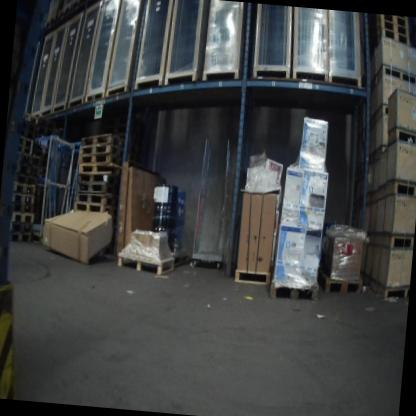pallet: (116, 250, 176, 279), (79, 130, 126, 153), (321, 273, 364, 298), (270, 282, 320, 302), (78, 139, 125, 159), (78, 150, 124, 170), (78, 159, 122, 177), (77, 170, 121, 188), (76, 180, 121, 197), (74, 200, 119, 217), (381, 64, 416, 85), (74, 192, 118, 207), (381, 28, 412, 46), (380, 20, 411, 38), (390, 231, 415, 253), (385, 281, 410, 302), (380, 15, 410, 31), (394, 178, 416, 198), (396, 126, 416, 145), (18, 154, 42, 168), (11, 211, 35, 224), (11, 202, 35, 215), (17, 164, 41, 177), (13, 182, 36, 195), (11, 193, 35, 205), (11, 222, 33, 235), (22, 111, 40, 126), (10, 232, 32, 244), (175, 251, 191, 267), (16, 173, 37, 185), (58, 3, 72, 18), (19, 136, 34, 149), (18, 145, 33, 156), (45, 16, 55, 28), (72, 0, 86, 8), (382, 102, 388, 117)
